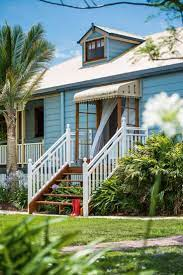Tin-shade House: (11, 18, 180, 189)
